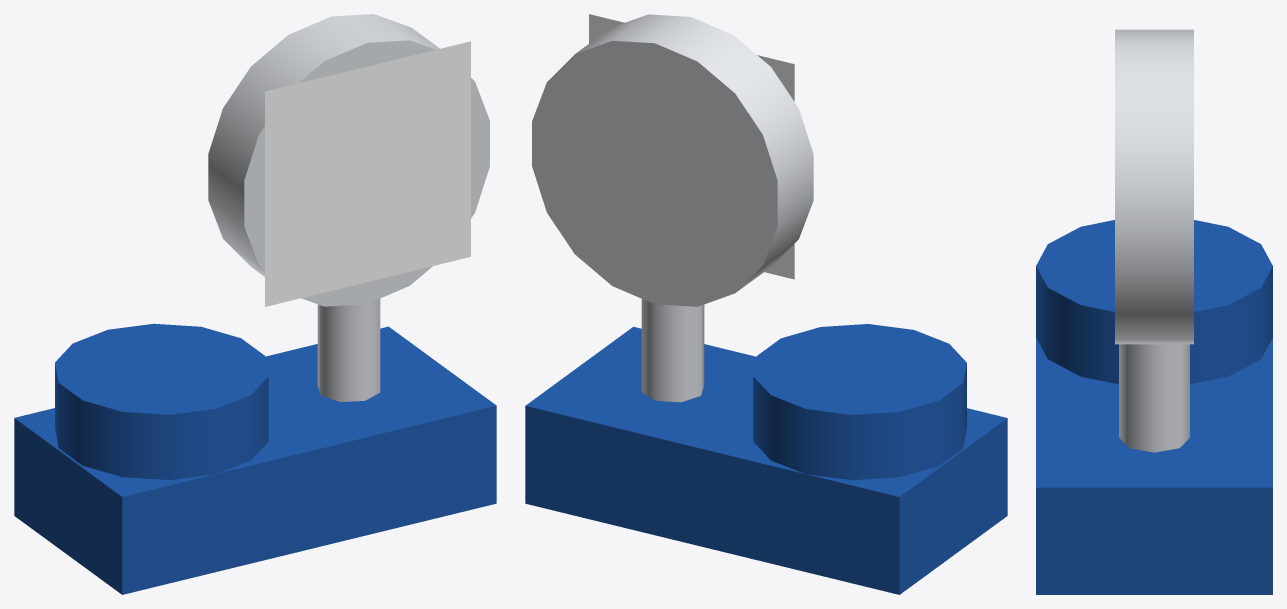
File: toolkit--gladHandGauge.glb
The picture shows the model from 3 angles, left to right: view 1: azimuth 30°, elevation 25°; view 2: azimuth 150°, elevation 25°; view 3: azimuth 270°, elevation 25°; orthographic projection. The views are drawn at different scales.
Parts seen in each view (by area): view 1: gladHandGauge:shell, dial; view 2: gladHandGauge:shell, dial; view 3: gladHandGauge:shell.
Boxes of the visible parts, x1,y1,x2,y2 form: gladHandGauge:shell: (14,14,496,594); dial: (265,41,470,306); gladHandGauge:shell: (525,14,1007,594); dial: (589,14,794,279); gladHandGauge:shell: (1036,29,1272,594).
Size of the model in its own units: 0.1294 by 0.14 by 0.06.
